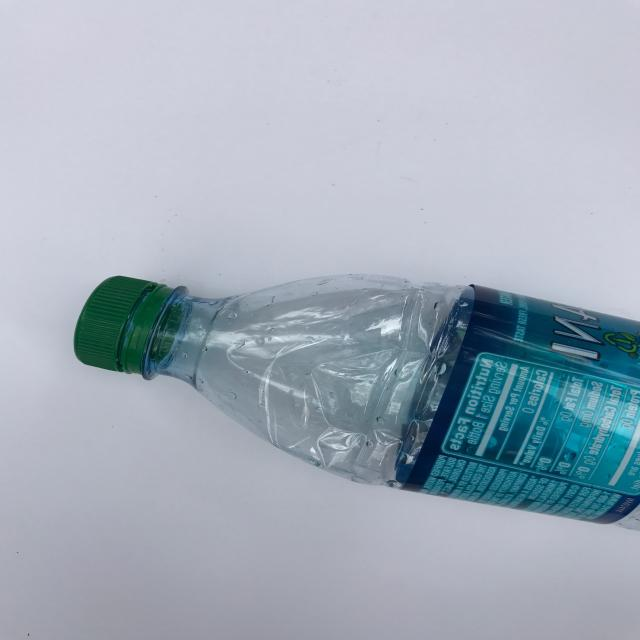plastic: (73, 272, 640, 532)
